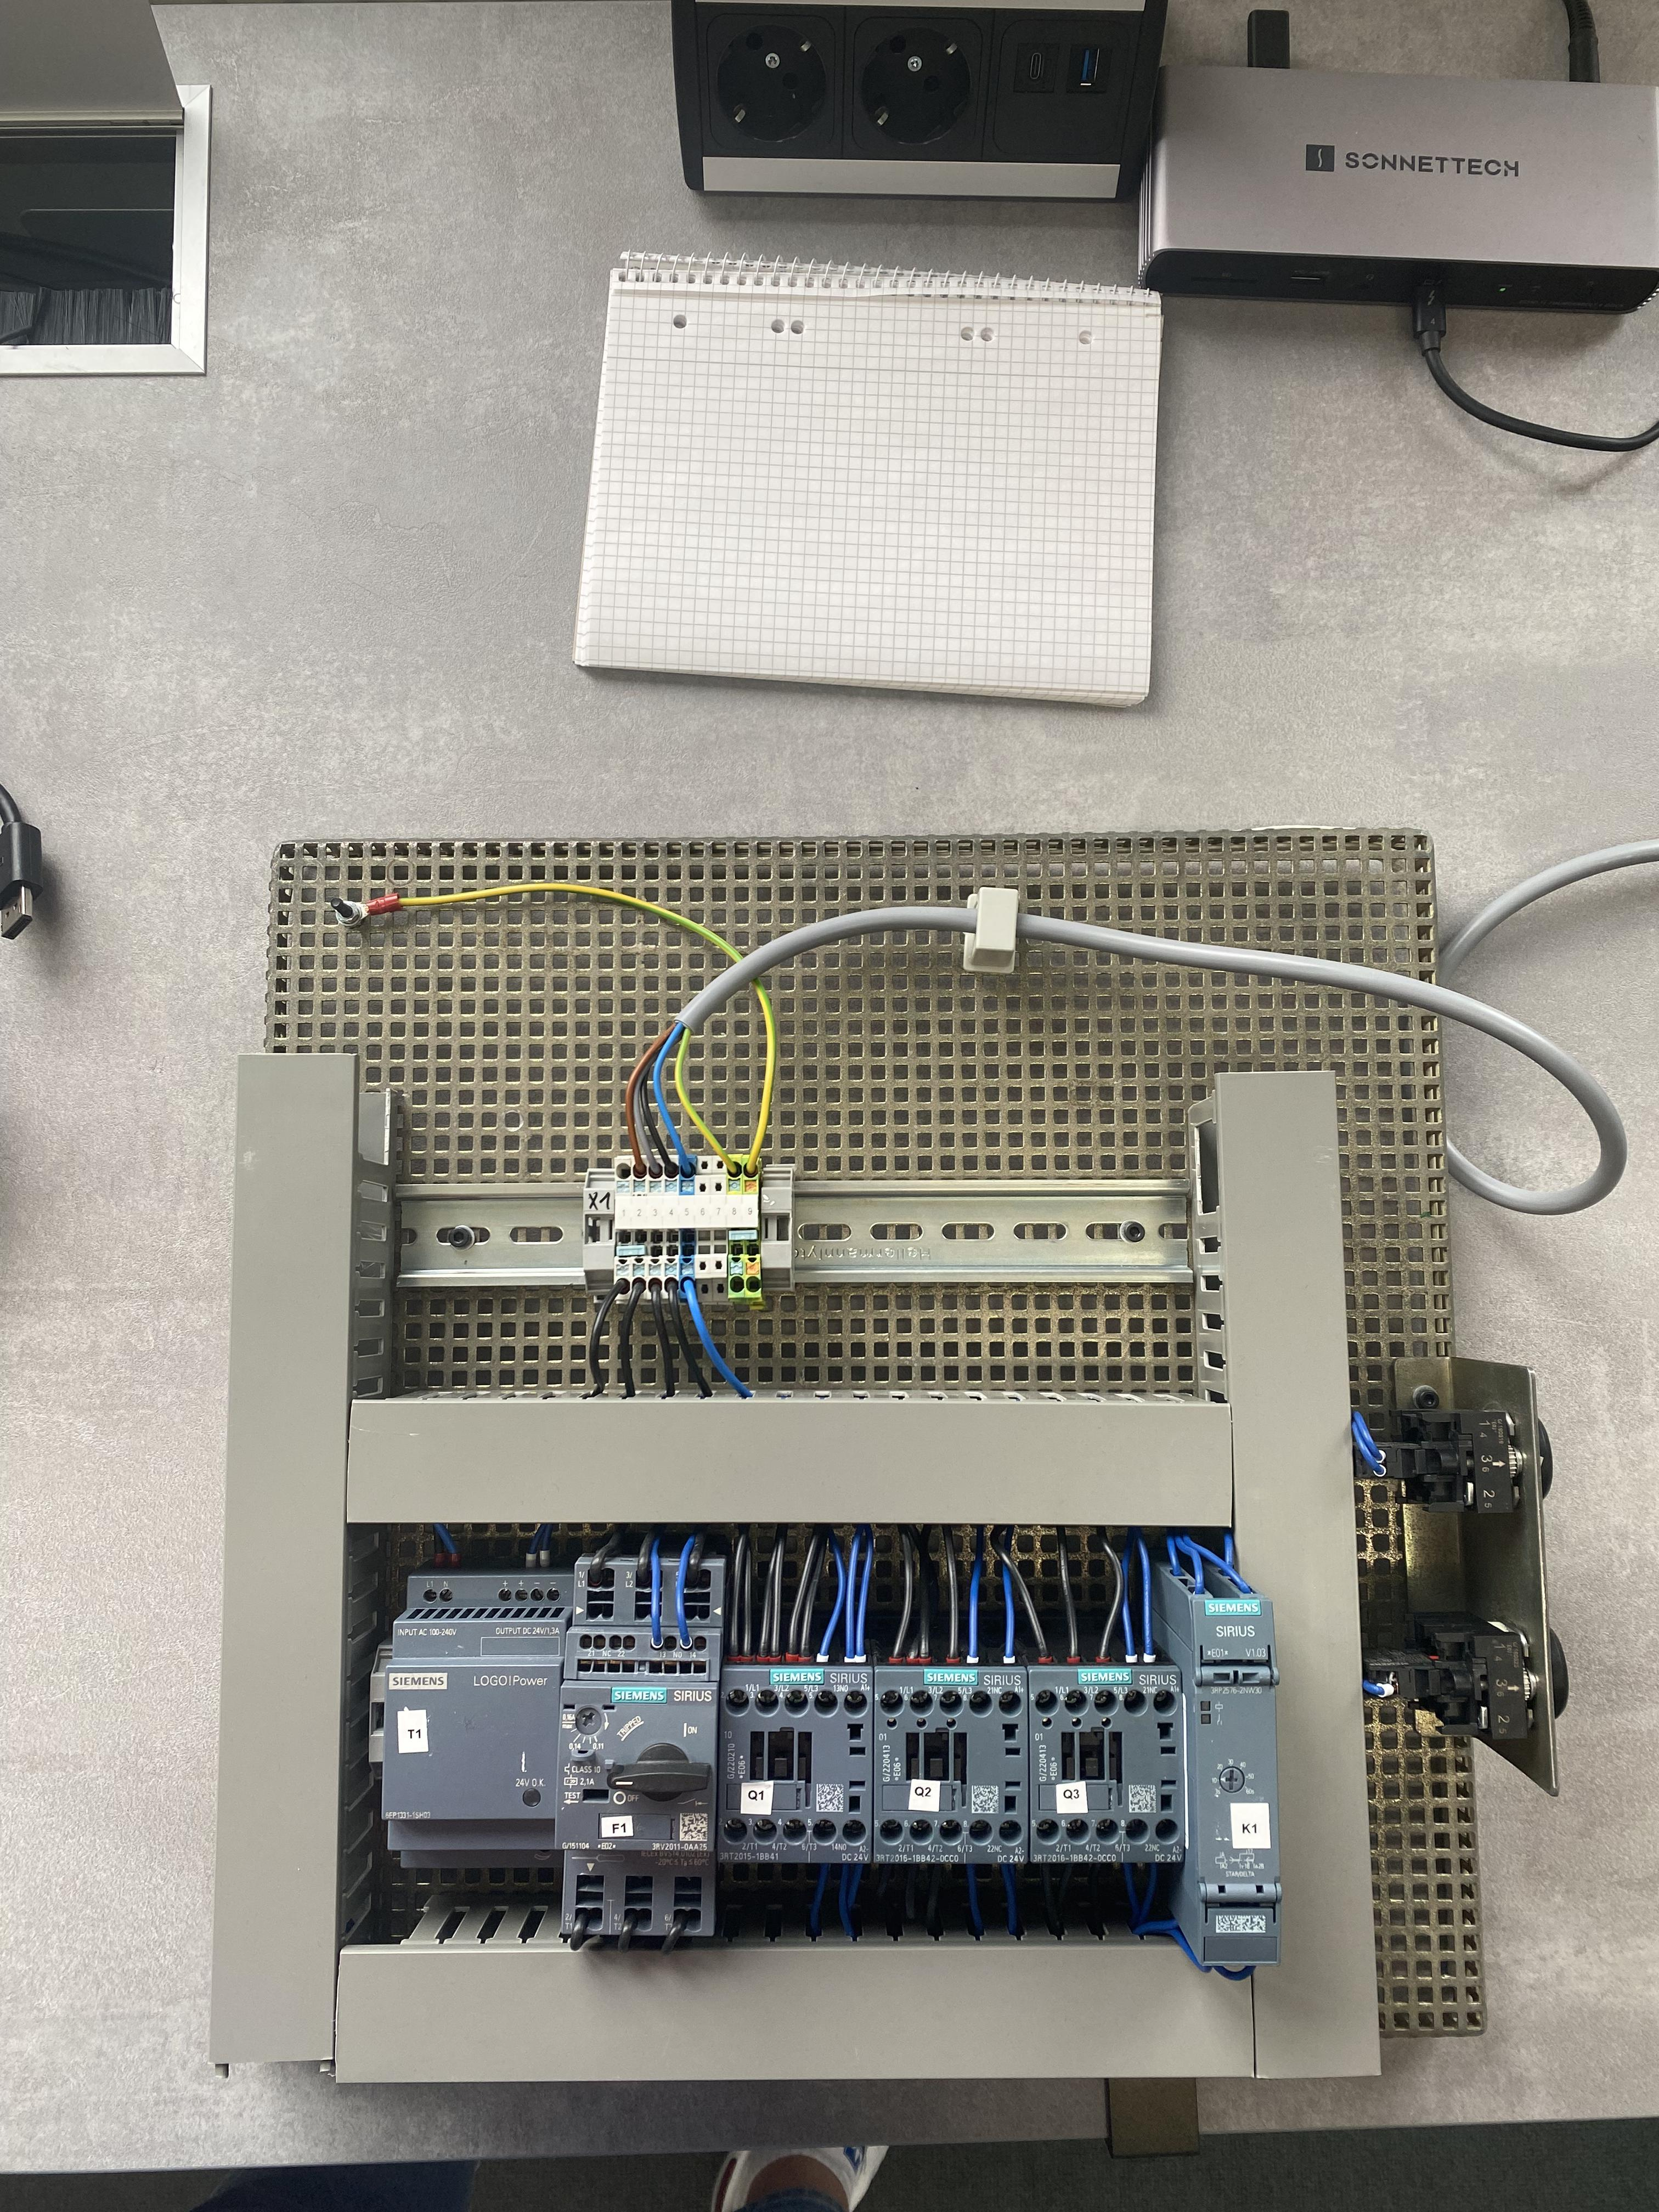F1: (559, 1562, 723, 1935), (716, 1667, 873, 1865)
K1: (1190, 1597, 1281, 1942)
Q2: (873, 1669, 1028, 1864)
Q3: (1028, 1669, 1183, 1864)
T1: (382, 1575, 573, 1869)
X1: (582, 1151, 795, 1305)
